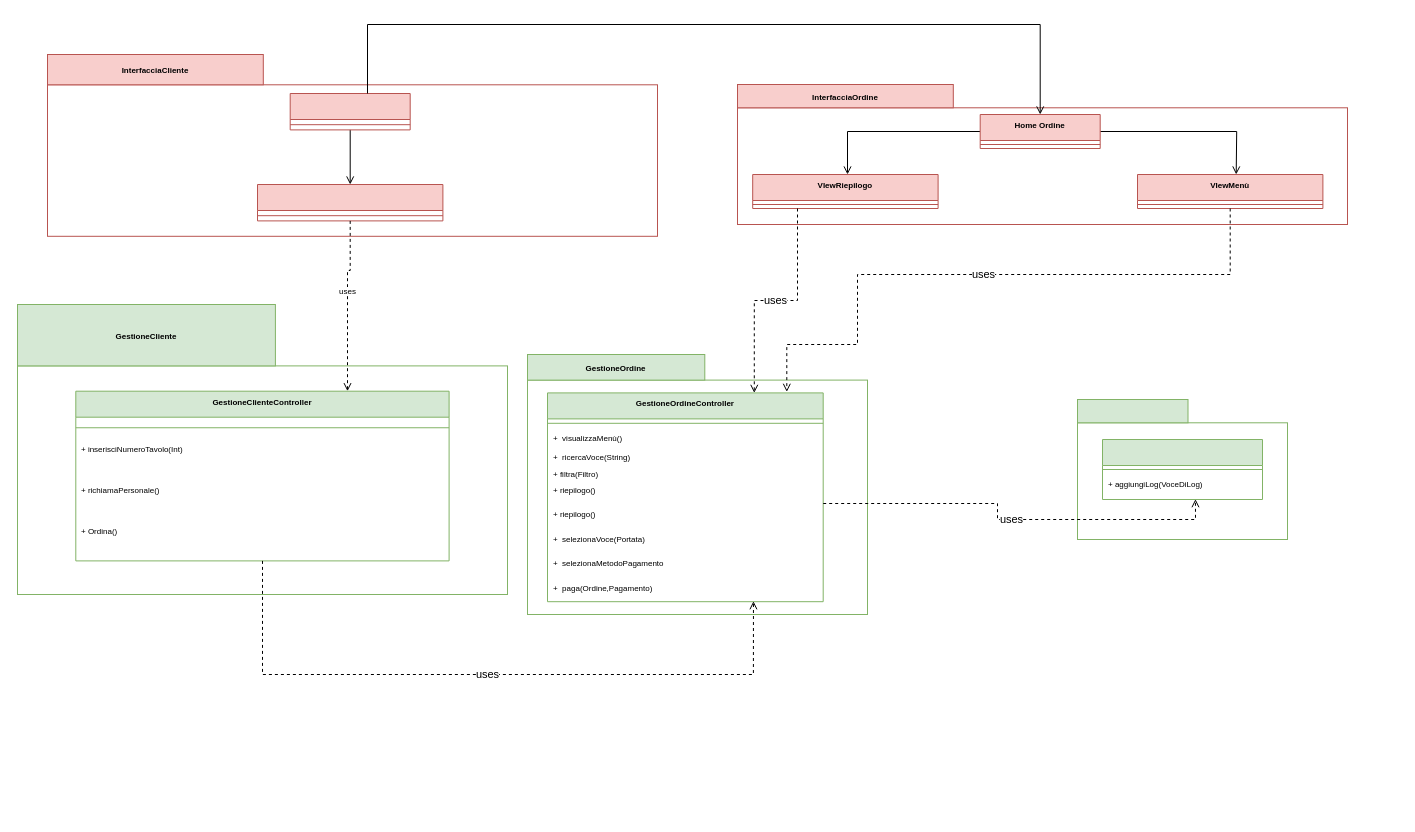
The diagram is 1415 pixels wide and 832 high, and some of its shapes have lost their labels. The box of each missing label's shape, as (x1, y1, x2, y2) in pixels:
Home GestioneCliente: (289, 92, 410, 130)
Log: (1076, 398, 1188, 423)
Logger: (1102, 438, 1262, 500)
ViewPagamentoOrdine: (256, 184, 443, 221)
